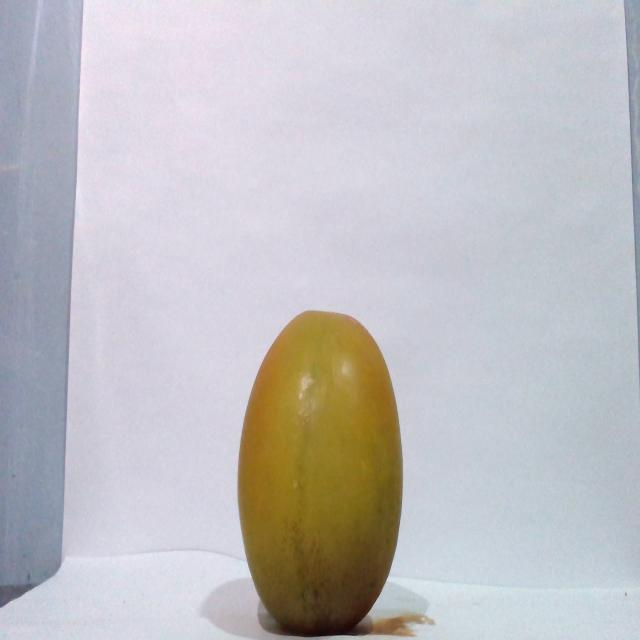Red: (235, 308, 404, 634)
